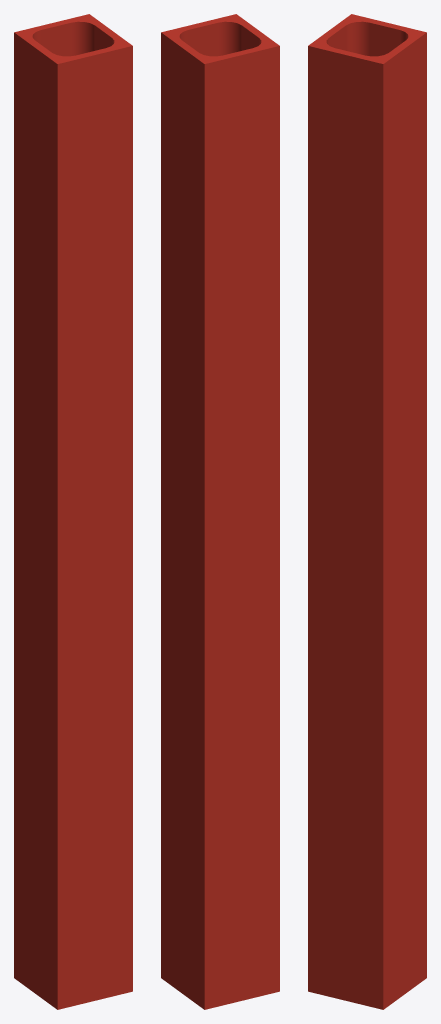
The model's file is body1_visual.obj.
3 renders of one model, left to right at view 1: azimuth 30°, elevation 25°; view 2: azimuth 210°, elevation 25°; view 3: azimuth 330°, elevation 25°, orthographic.
Visible parts, largest first — view 1: Body1; view 2: Body1; view 3: Body1.
Boxes of the visible parts, x1,y1,x2,y2 form: Body1: [14, 14, 132, 1009]; Body1: [161, 14, 279, 1009]; Body1: [308, 14, 426, 1009].
Bounding box in the file's own units: 2.5 × 30 × 2.5.
